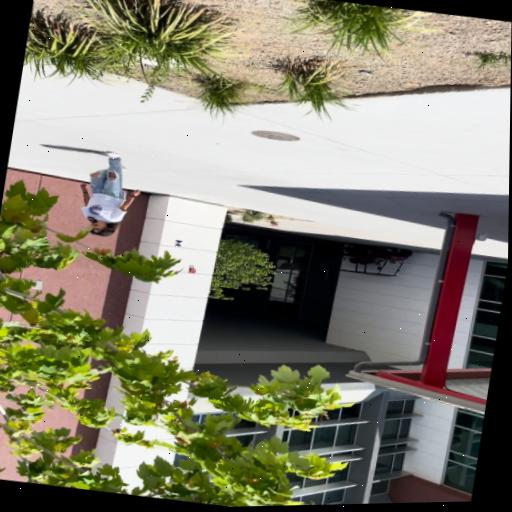target6: (174, 240, 183, 247)
